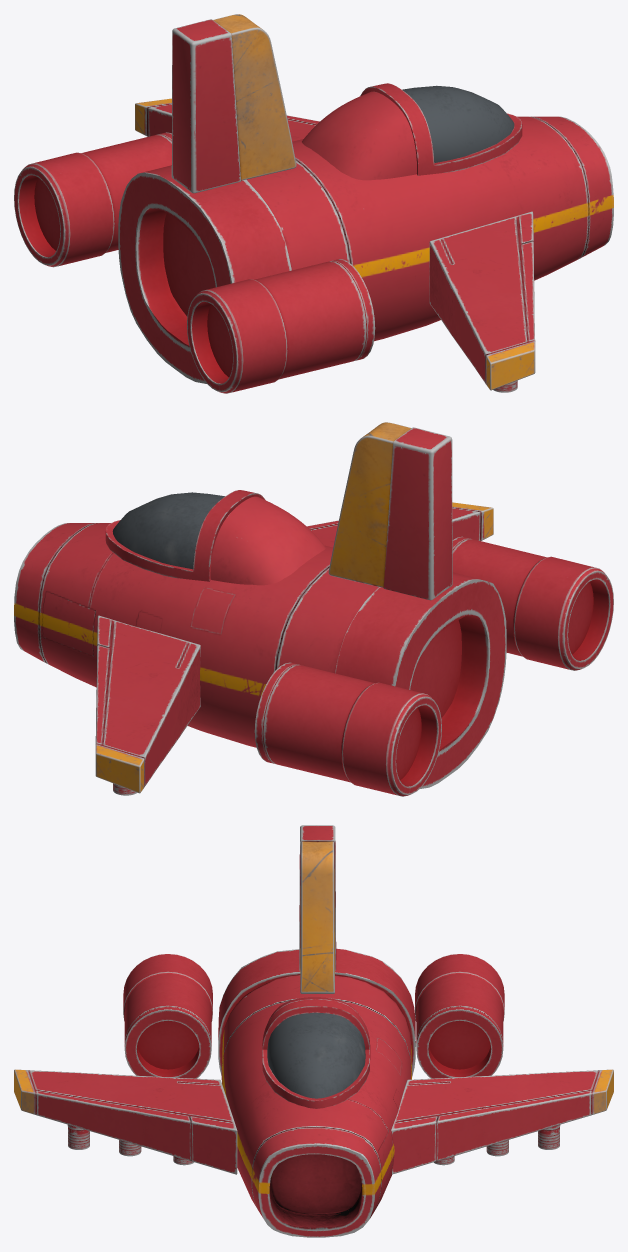
File: Rocket_Shards.glb
3 renders of one model, top to bottom at view 1: azimuth 30°, elevation 25°; view 2: azimuth 150°, elevation 25°; view 3: azimuth 270°, elevation 25°, orthographic. The views are drawn at different scales.
Parts seen in each view (by area): view 1: Shard, Shard.005, Shard.008, Shard.009, Shard.004, Shard.006, Shard.003, Shard.001, Shard.007; view 2: Shard, Shard.005, Shard.009, Shard.008, Shard.001, Shard.002, Shard.007, Shard.006, Shard.004; view 3: Shard, Shard.001, Shard.004, Shard.003, Shard.002, Shard.006, Shard.007, Shard.005, Shard.009, Shard.008.
Boxes of the visible parts, x1,y1,x2,y2 form: Shard: [118, 83, 613, 383]; Shard.005: [171, 14, 296, 193]; Shard.008: [187, 275, 309, 393]; Shard.009: [14, 143, 149, 267]; Shard.004: [450, 272, 535, 392]; Shard.006: [274, 259, 375, 374]; Shard.003: [429, 211, 533, 333]; Shard.001: [135, 98, 319, 136]; Shard.007: [124, 132, 171, 170]; Shard: [14, 490, 506, 789]; Shard.005: [328, 422, 452, 600]; Shard.009: [298, 673, 441, 796]; Shard.008: [497, 552, 613, 670]; Shard.001: [95, 676, 179, 795]; Shard.002: [97, 615, 200, 736]; Shard.007: [254, 662, 332, 772]; Shard.006: [452, 536, 526, 588]; Shard.004: [307, 502, 493, 540]; Shard: [218, 948, 415, 1237]; Shard.001: [480, 1069, 613, 1156]; Shard.004: [14, 1069, 147, 1156]; Shard.003: [141, 1076, 237, 1174]; Shard.002: [391, 1076, 486, 1174]; Shard.006: [124, 983, 211, 1078]; Shard.007: [416, 992, 503, 1078]; Shard.005: [299, 825, 336, 993]; Shard.009: [415, 954, 504, 1029]; Shard.008: [123, 954, 212, 1021].
Size of the model in its own units: 2.7 by 1.89 by 3.65.
Materials: 1 (1 with a texture image).
